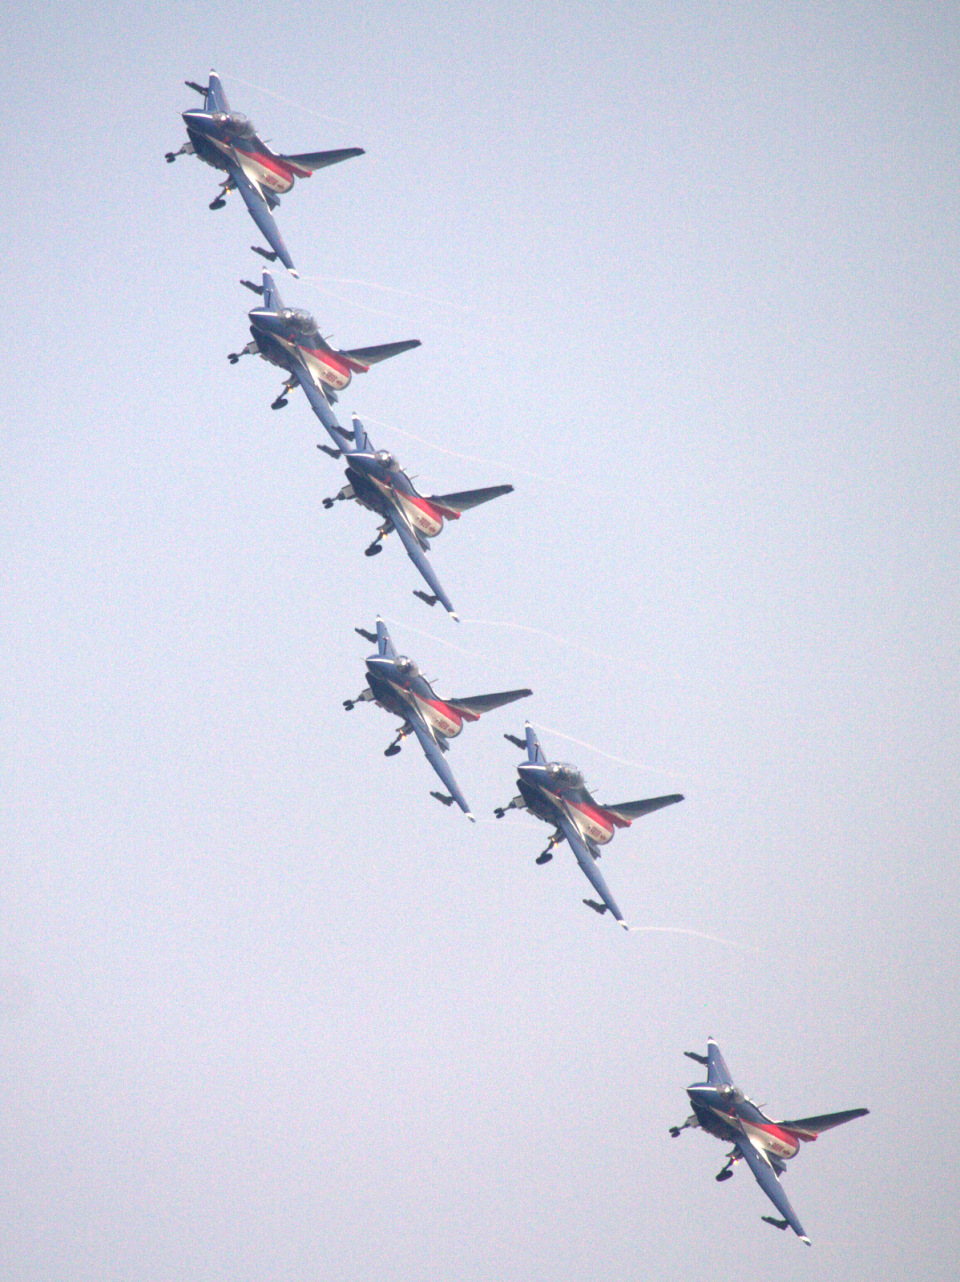airplane: (164, 67, 367, 280), (668, 1035, 871, 1247), (321, 411, 516, 624), (493, 719, 686, 931), (342, 613, 534, 823), (227, 265, 424, 460)
